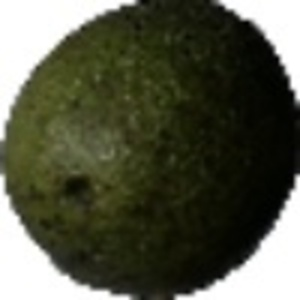abacate: (3, 4, 294, 294)
